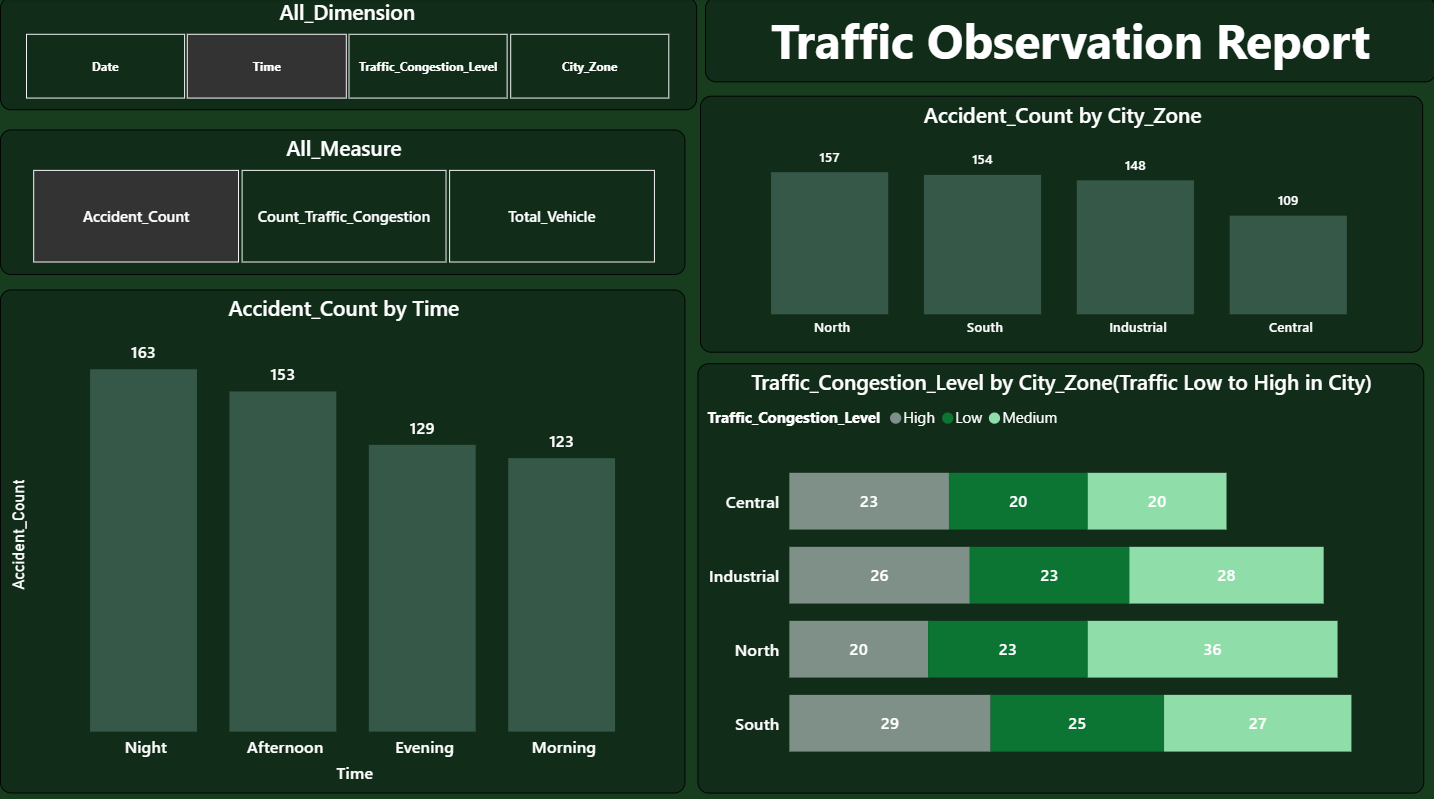

The dashboard page shown, as its layout file describes it:
{"tool":"powerbi","page":{"name":"Traffic_Report","canvas":[1280,720],"ordinal":1},"visuals":[{"type":"barChart","title":" Traffic_Congestion_Level by City_Zone(Traffic Low to High in City)","fields":{"Category":["Traffice.City_Zone"],"Y":["Traffic_Measure.Count_Traffic_Congestion"],"Series":["Traffice.Traffic_Congestion_Level"]},"box":[620.9,326.5,647.2,383.3],"z":0},{"type":"columnChart","fields":{"Y":["Traffic_Measure.Accident_Count"],"Category":["Traffice.City_Zone"]},"box":[623.8,87.5,644.2,228.8],"z":1000},{"type":"slicer","title":"All_Measure","fields":{"Values":["Measure(Traffic).Measure(Traffic)"]},"box":[0,118.1,610.7,129.7],"z":2000},{"type":"columnChart","fields":{"Category":["Traffice.Time"],"Y":["Traffic_Measure.Accident_Count"]},"box":[0,260.9,610.7,448.9],"z":3000},{"type":"slicer","title":"All_Dimension","fields":{"Values":["Dimension(Trafffic).Dimension(Trafffic)"]},"box":[0,0,620.8,100.7],"z":4000},{"type":"textbox","box":[628.2,0,651.5,75.8],"z":5000}]}

Visuals, with their boxes in screenshot pixels (x1, y1, x2, y2), scaled from the page's 1280x720 canvas onto the 1434x799 screenshot:
" Traffic_Congestion_Level by City_Zone(Traffic Low to High in City)" barChart: [left=696, top=362, right=1421, bottom=788]
columnChart - Traffic_Measure.Accident_Count x Traffice.City_Zone: [left=699, top=97, right=1421, bottom=351]
"All_Measure" slicer: [left=0, top=131, right=684, bottom=275]
columnChart - Traffice.Time x Traffic_Measure.Accident_Count: [left=0, top=290, right=684, bottom=788]
"All_Dimension" slicer: [left=0, top=0, right=695, bottom=112]
textbox: [left=704, top=0, right=1433, bottom=84]
